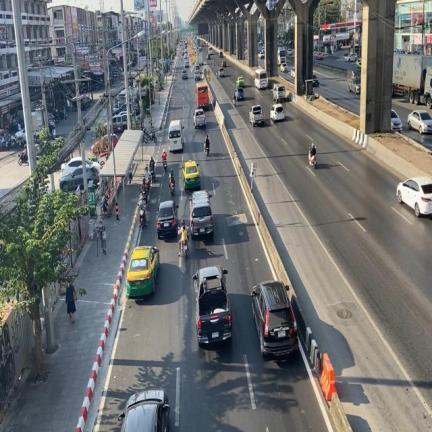bus: (196, 82, 207, 109)
car: (252, 281, 298, 355), (118, 389, 169, 431), (397, 176, 431, 216), (189, 190, 213, 236), (157, 200, 178, 238), (59, 166, 83, 190), (408, 110, 431, 133), (61, 157, 81, 176), (271, 103, 284, 122), (193, 108, 205, 128), (87, 167, 99, 184), (86, 158, 101, 170)
human: (66, 281, 76, 323)
motorbike: (308, 147, 317, 169), (309, 155, 317, 169), (150, 167, 156, 182), (140, 214, 145, 228), (182, 244, 187, 258), (169, 182, 174, 194), (163, 160, 167, 171), (205, 146, 209, 157), (140, 209, 144, 214), (182, 241, 187, 244)
pickup: (193, 266, 232, 344), (249, 105, 264, 126)
taxi: (127, 246, 159, 297), (182, 160, 200, 189)
truck: (393, 53, 431, 108)
van: (169, 120, 183, 150)
